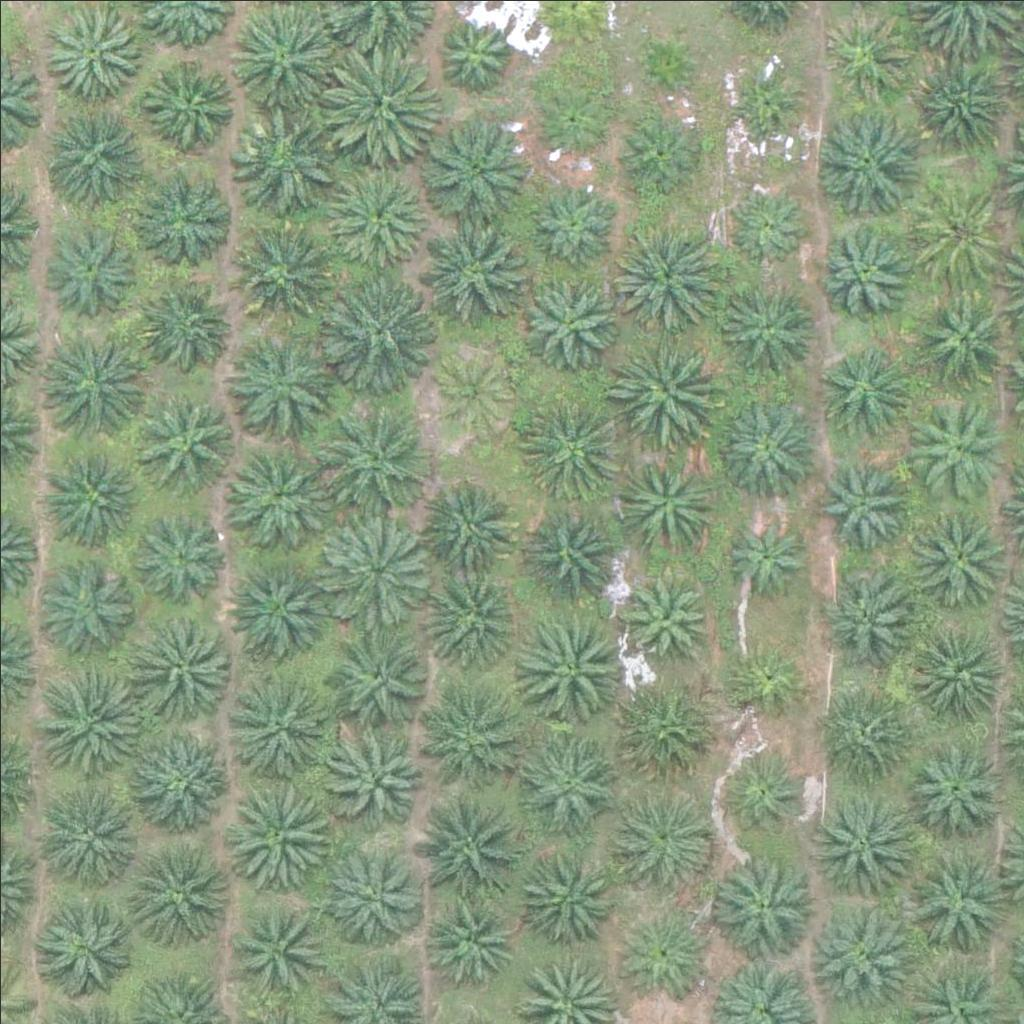Kelapa_Sawit: (322, 398, 435, 512), (521, 613, 634, 726), (222, 775, 335, 888), (30, 668, 143, 781), (229, 106, 342, 219), (322, 273, 435, 386), (612, 220, 725, 333), (611, 332, 724, 445), (25, 777, 137, 891), (227, 4, 339, 118), (325, 52, 437, 166), (900, 844, 1012, 957), (802, 901, 914, 1014), (806, 786, 918, 899), (602, 786, 714, 899), (413, 786, 525, 899), (322, 514, 434, 627), (221, 671, 333, 784), (35, 328, 147, 441), (514, 390, 626, 503), (812, 106, 924, 219), (416, 207, 528, 320), (421, 114, 533, 227), (901, 622, 1001, 723), (901, 739, 1001, 840), (817, 675, 917, 776), (812, 566, 912, 667), (714, 855, 814, 956), (602, 679, 702, 780), (520, 732, 620, 833), (529, 503, 629, 604), (426, 572, 526, 673), (416, 672, 516, 773), (322, 845, 422, 946), (325, 729, 425, 830), (227, 564, 327, 665), (226, 898, 326, 999), (132, 841, 232, 942), (126, 733, 226, 834), (127, 608, 227, 709), (34, 556, 134, 657), (27, 897, 127, 998), (142, 52, 242, 153), (40, 444, 140, 545), (326, 164, 426, 265), (521, 270, 621, 371), (617, 451, 717, 552), (719, 391, 819, 492), (717, 278, 817, 379), (815, 219, 915, 320), (909, 401, 1009, 502), (912, 291, 1012, 392), (905, 509, 1005, 609), (514, 847, 614, 947), (332, 623, 432, 723), (911, 49, 1011, 149), (42, 96, 142, 196), (42, 220, 142, 320), (130, 175, 230, 275), (138, 395, 238, 495), (133, 279, 233, 379), (227, 446, 327, 546), (227, 329, 327, 429), (235, 216, 335, 316), (425, 476, 525, 576), (906, 183, 1006, 283), (720, 640, 808, 728), (720, 753, 808, 841), (625, 572, 713, 660), (529, 76, 617, 164), (428, 345, 516, 433), (724, 178, 812, 266), (821, 346, 909, 434), (822, 455, 910, 543), (528, 179, 615, 268), (726, 508, 813, 596), (617, 909, 704, 997), (428, 900, 515, 988), (137, 512, 224, 600), (822, 13, 909, 101), (434, 8, 521, 96), (619, 106, 706, 194), (631, 26, 706, 102), (725, 56, 800, 131)
